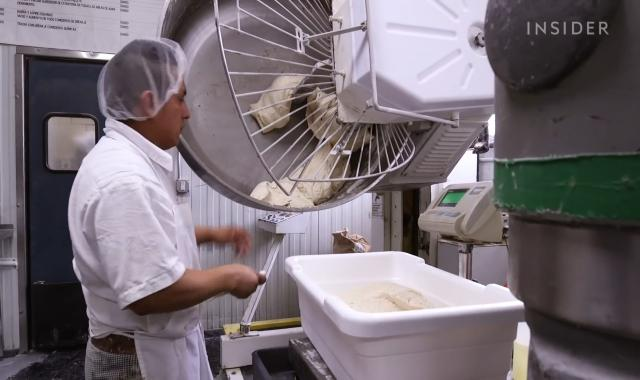hairnet: (98, 40, 188, 120)
